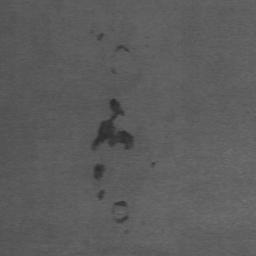Iron scale compression: (91, 99, 134, 151), (93, 164, 105, 180), (113, 214, 128, 222), (115, 44, 128, 52), (96, 190, 105, 200), (113, 201, 127, 207)
